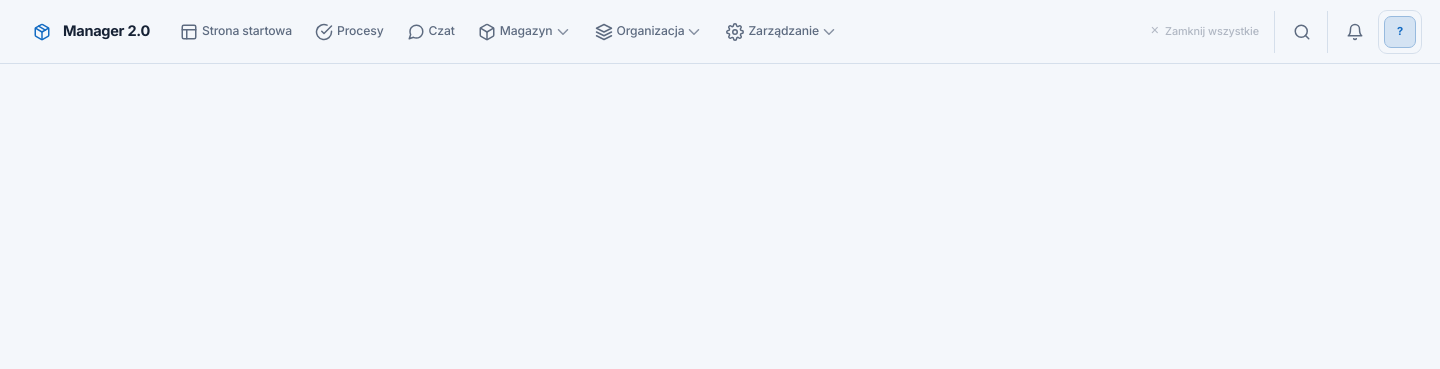
Scenario: Navbar warehouse menu › shows shipments group first with existing shipment screens
This screenshot has width=1440, height=369.
Click the button "Magazyn". click: click(525, 32)
box: [468,12,582,50]
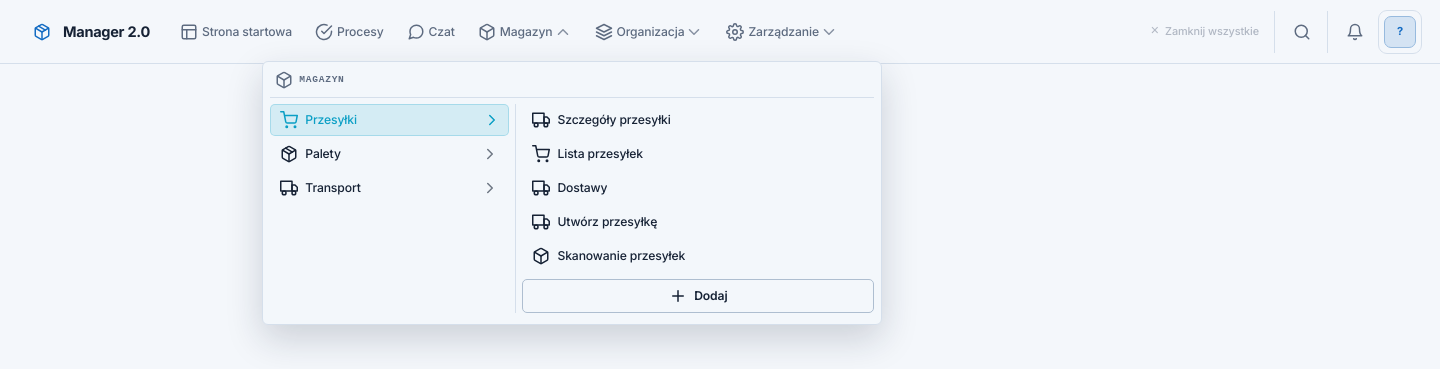
Expected: the button "Lista przesyłek" is shown, [522,138,874,170]
